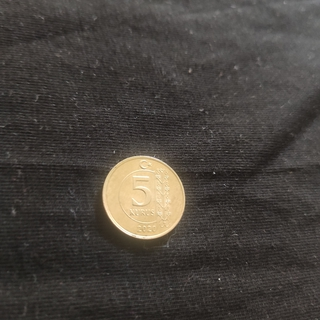5KURUS: (99, 153, 187, 242)
